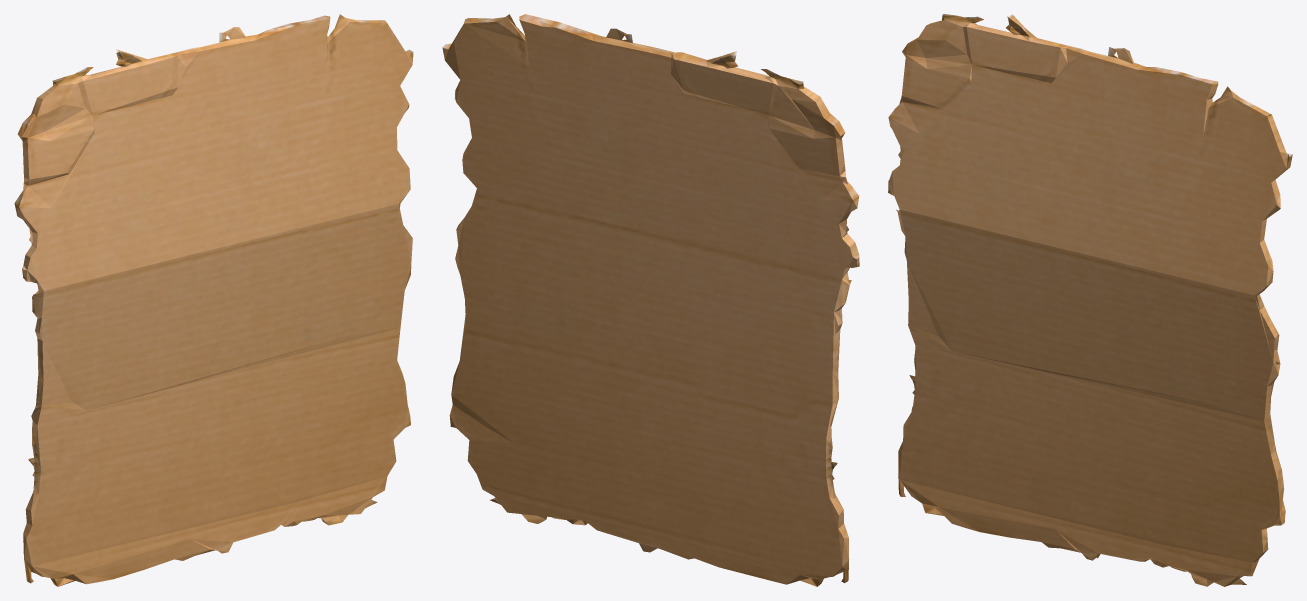
The model's file is piece_of_cardboard.glb.
The picture shows the model from 3 angles, left to right: view 1: azimuth 30°, elevation 25°; view 2: azimuth 150°, elevation 25°; view 3: azimuth 330°, elevation 25°; orthographic projection. The views are drawn at different scales.
Parts seen in each view (by area): view 1: tmp47c9ziau.ply_Material.001_0; view 2: tmp47c9ziau.ply_Material.001_0; view 3: tmp47c9ziau.ply_Material.001_0.
Boxes of the visible parts, <box> form: tmp47c9ziau.ply_Material.001_0: <box>14,14,413,586</box>; tmp47c9ziau.ply_Material.001_0: <box>442,14,859,586</box>; tmp47c9ziau.ply_Material.001_0: <box>888,14,1292,586</box>.
Bounding box in the file's own units: 1.58 × 1.96 × 0.1418.
1 material, 1 textured.
